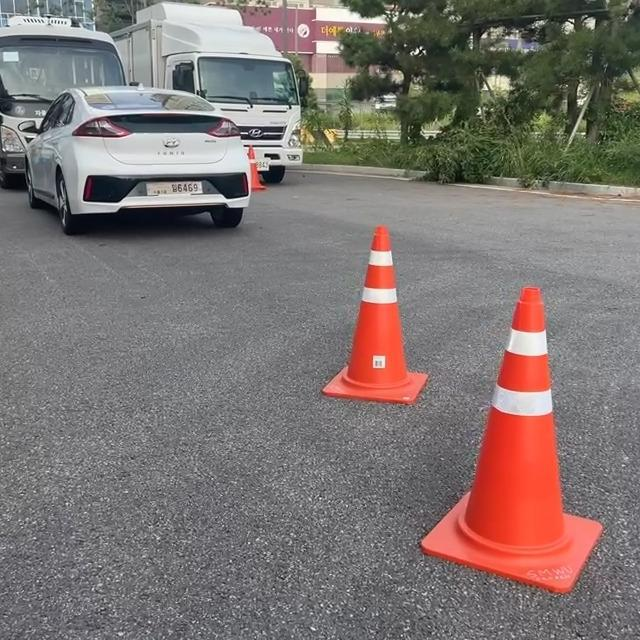fallen_object: (417, 262, 580, 562), (306, 207, 418, 415), (235, 139, 284, 204)
